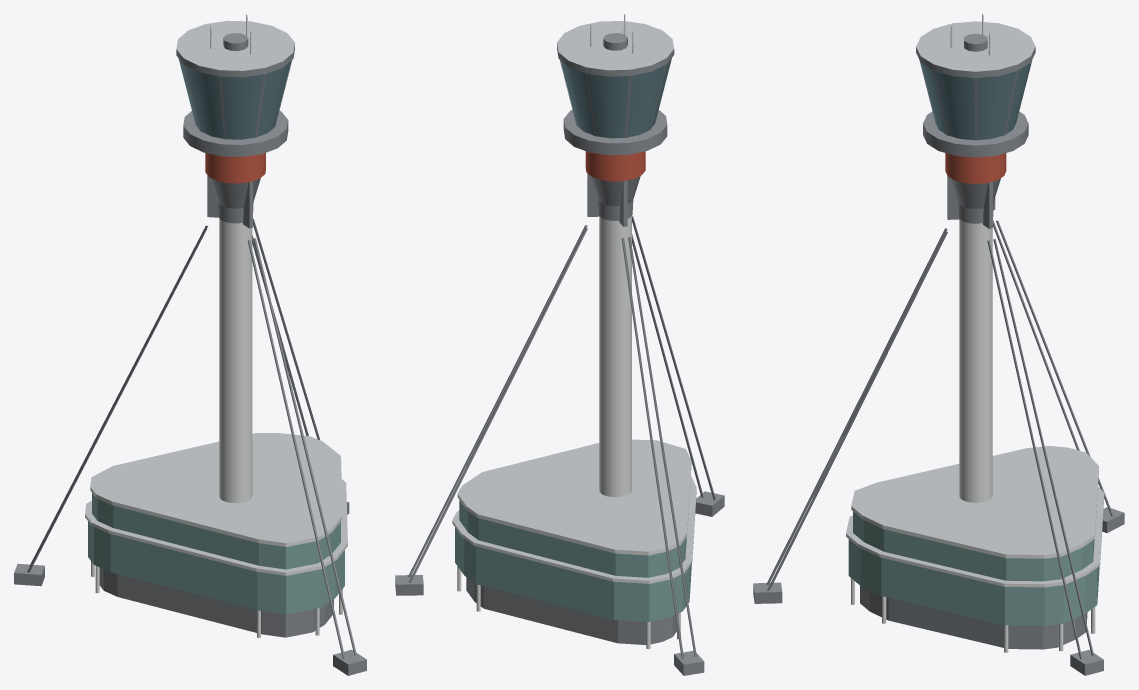
Rendered from london-heathrow-control-tower.glb.
3 renders of one model, left to right at view 1: azimuth 30°, elevation 25°; view 2: azimuth 150°, elevation 25°; view 3: azimuth 270°, elevation 25°, orthographic.
Visible parts, largest first — view 1: Heathrow Control Tower; view 2: Heathrow Control Tower; view 3: Heathrow Control Tower.
Part boxes in pixels (x1,y1,x2,y2): Heathrow Control Tower: (14, 14, 366, 675); Heathrow Control Tower: (395, 14, 724, 675); Heathrow Control Tower: (753, 14, 1124, 675).
Size of the model in its own units: 53.75 by 90.5 by 53.46.
